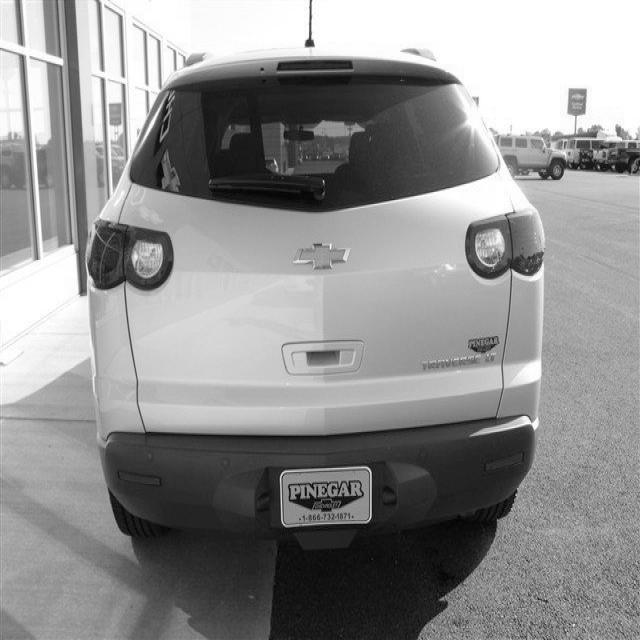car: (85, 41, 547, 551)
plat_license: (279, 465, 373, 528)
